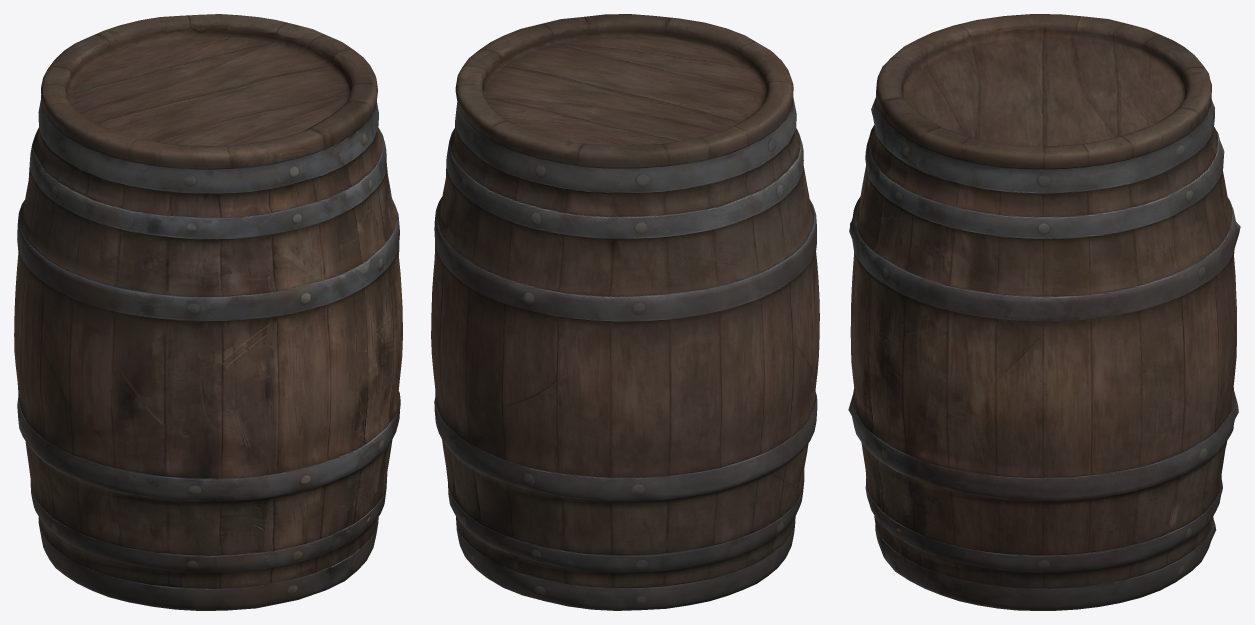
The model's file is tonneau.glb.
3 views of the same model, side by side, from view 1: azimuth 30°, elevation 25°; view 2: azimuth 150°, elevation 25°; view 3: azimuth 270°, elevation 25° (orthographic).
Visible parts, largest first — view 1: tripo_node_b49ad389; view 2: tripo_node_b49ad389; view 3: tripo_node_b49ad389.
Part boxes in pixels (x1,y1,x2,y2): tripo_node_b49ad389: (14, 14, 402, 610); tripo_node_b49ad389: (431, 14, 819, 610); tripo_node_b49ad389: (848, 14, 1240, 610).
Bounding box in the file's own units: 75.06 × 98.14 × 75.79.
Materials: 1 (1 with a texture image).
